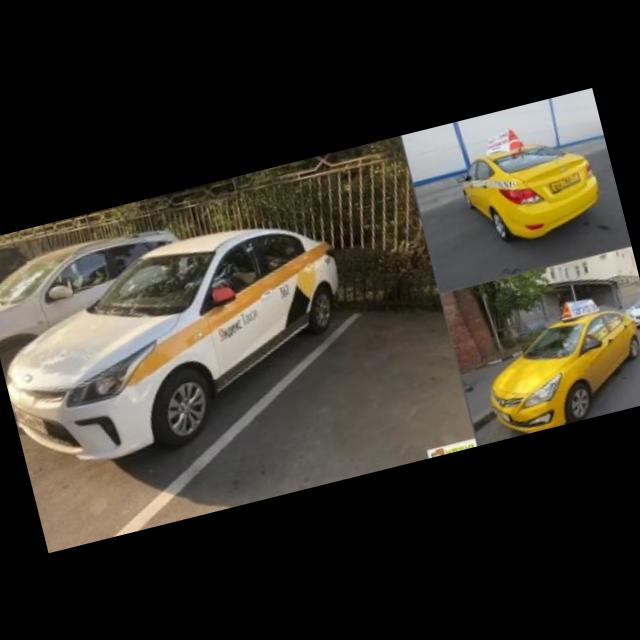taxi: (1, 202, 371, 484), (470, 286, 640, 441), (447, 111, 606, 254)
